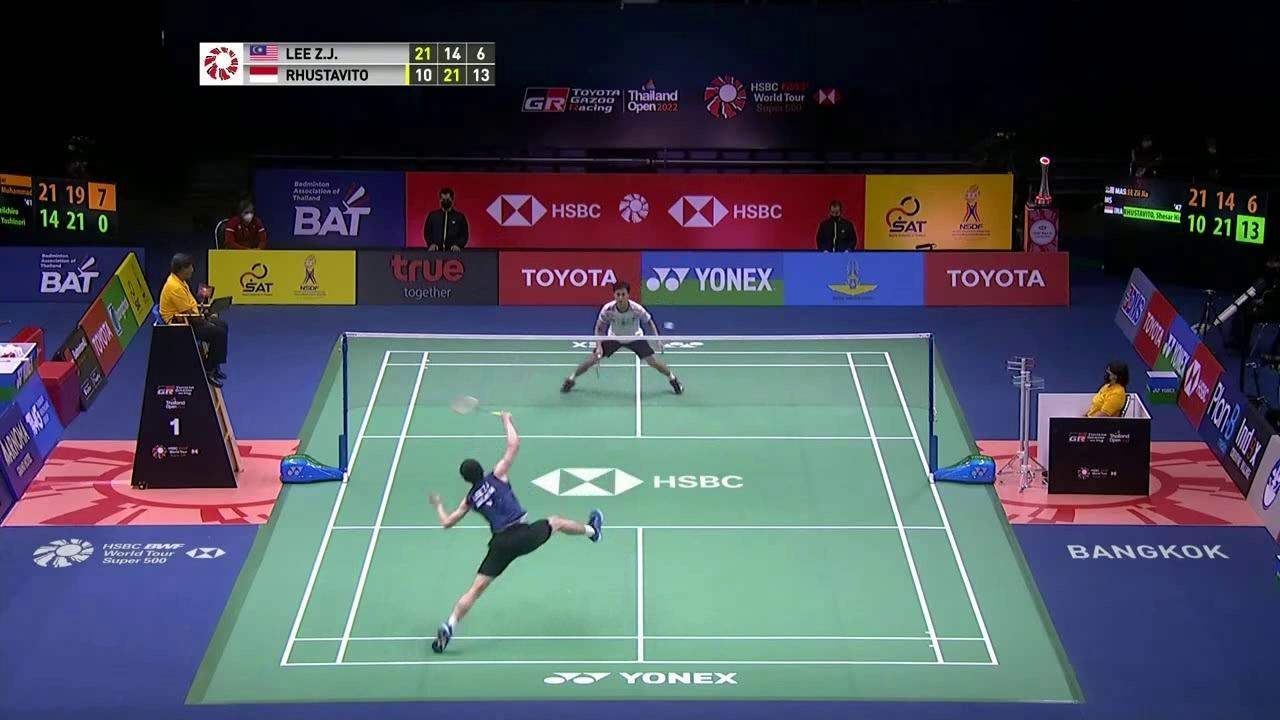racket: (448, 393, 515, 420), (593, 347, 605, 379)
shuttle: (663, 319, 675, 331)
